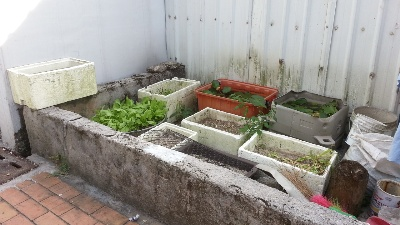box: (270, 87, 349, 153), (193, 73, 279, 126)
bucket: (371, 176, 400, 220)
styrofoam: (238, 128, 339, 201), (6, 56, 101, 112), (180, 104, 257, 160), (136, 76, 202, 125)
